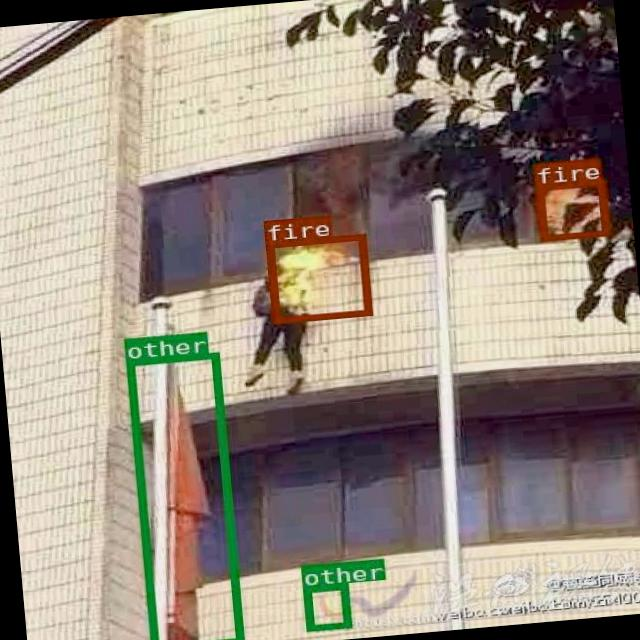fire: (264, 233, 371, 322), (533, 178, 608, 241)
